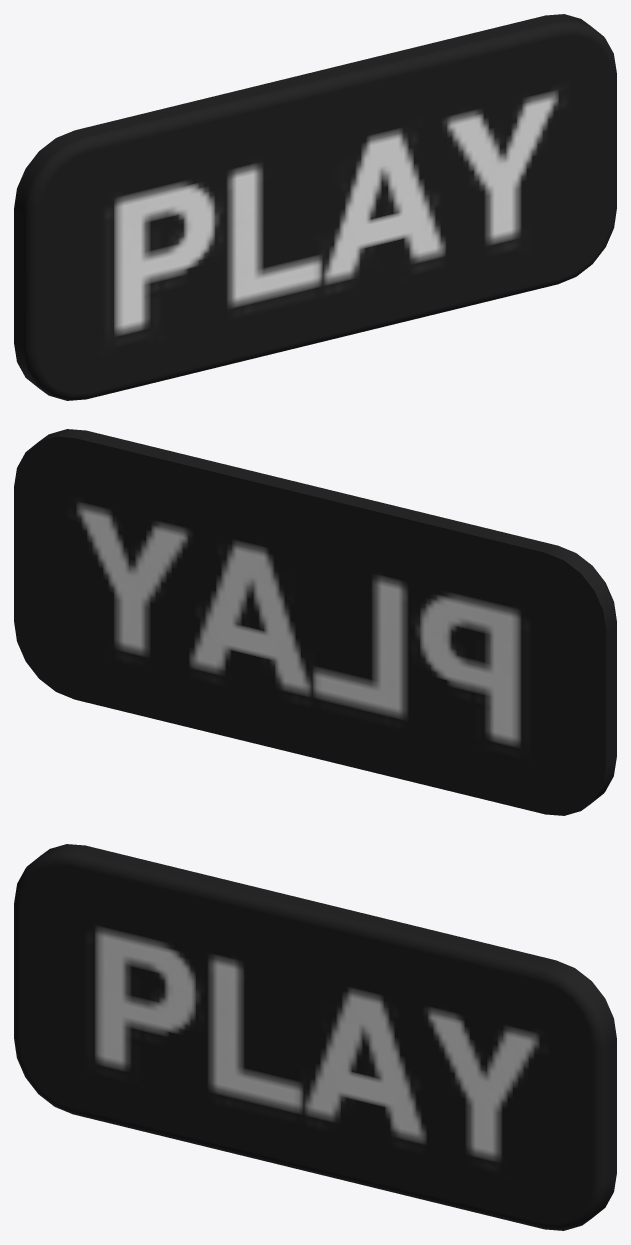
File: playButtonFinal.glb
3 renders of one model, top to bottom at view 1: azimuth 30°, elevation 25°; view 2: azimuth 150°, elevation 25°; view 3: azimuth 330°, elevation 25°, orthographic.
Visible parts, largest first — view 1: SUBSTANCE_IN_01; view 2: SUBSTANCE_IN_01; view 3: SUBSTANCE_IN_01.
Part boxes in pixels (x1,y1,x2,y2): SUBSTANCE_IN_01: [14, 14, 616, 400]; SUBSTANCE_IN_01: [14, 429, 616, 815]; SUBSTANCE_IN_01: [14, 844, 616, 1230].
Size of the model in its own units: 0.0277 by 0.0117 by 0.00121.
Materials: 1 (1 with a texture image).
